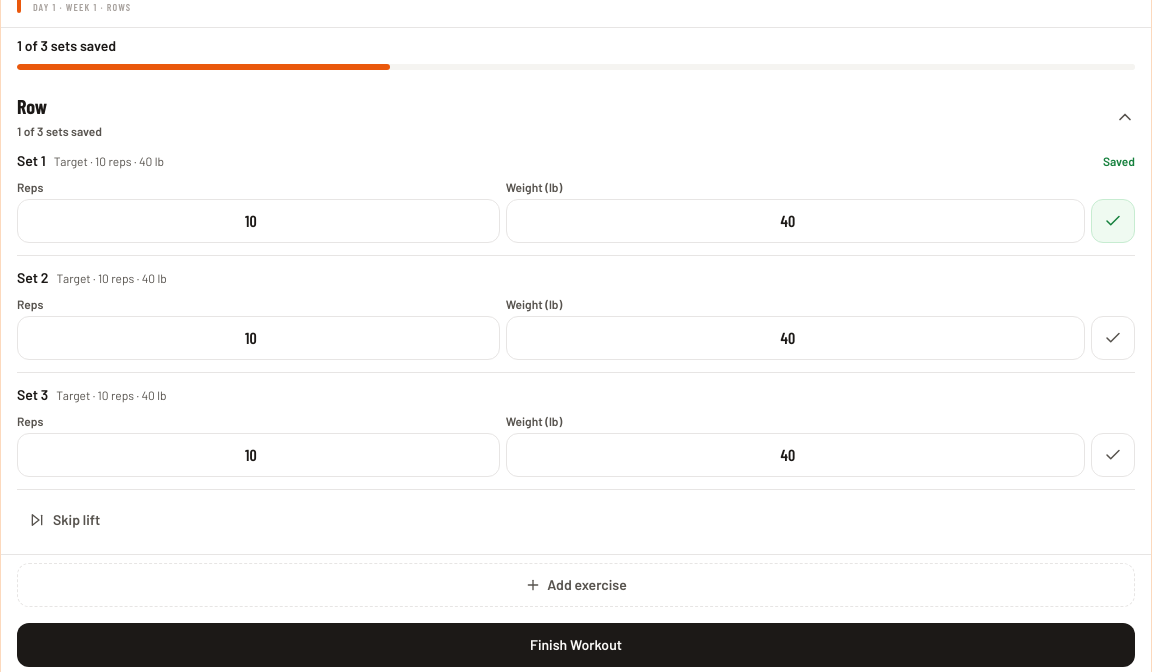
Scenario: planned finish with saved sets › Keep training preserves changed saved and unlogged inputs, and returns focus
This screenshot has width=1152, height=672.
Replace the text in the number field named "Row set 1 reps" with "7" at (258, 221), box left=17, top=199, right=500, bottom=243
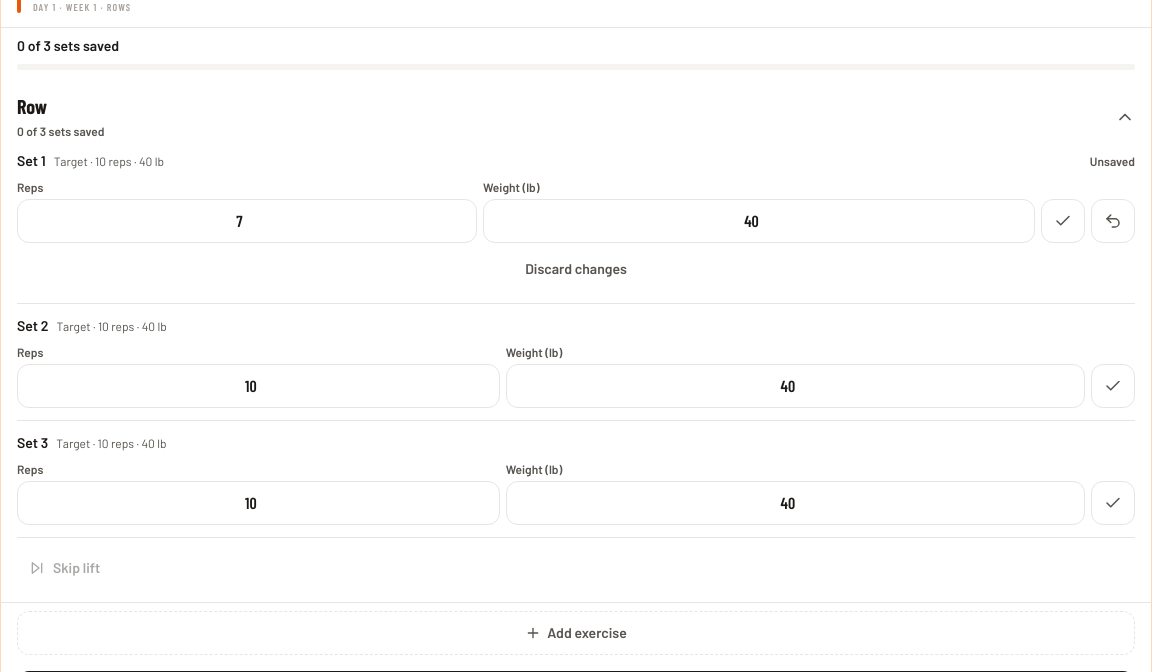
Replace the text in the 2nd number field labelled "Weight (lb)" with "42.5" at (795, 386), box left=506, top=364, right=1085, bottom=408
(page scrolled)
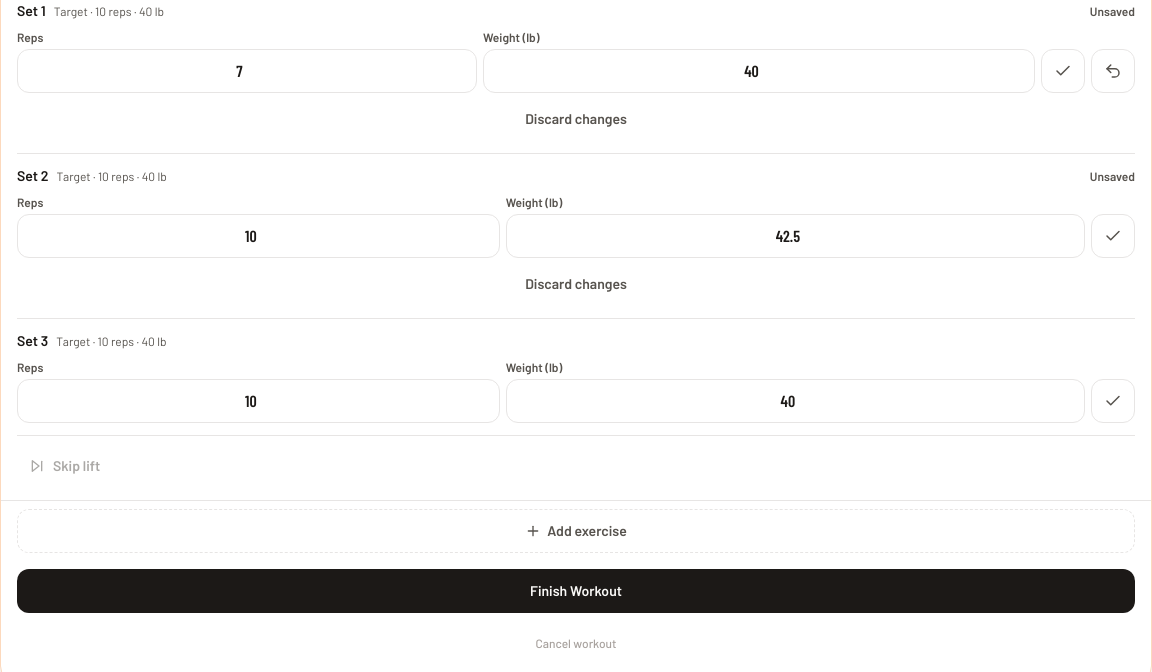
Click the button "Finish Workout" at (576, 591), box left=17, top=569, right=1135, bottom=613
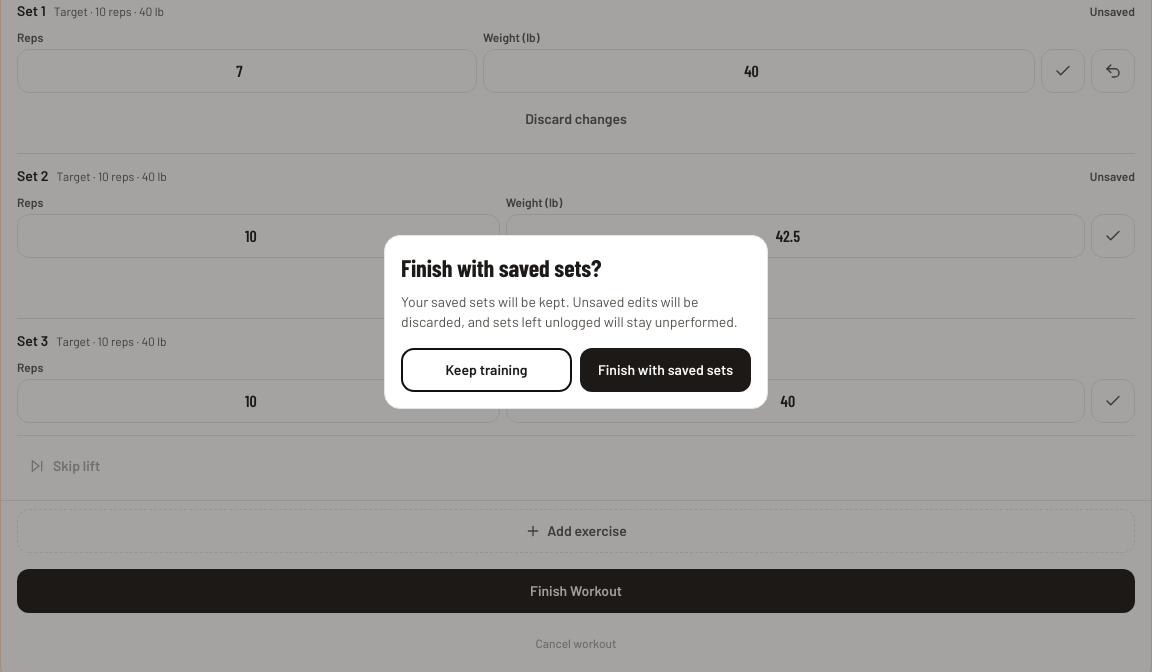
Click the button "Keep training" at (486, 370), box left=401, top=348, right=572, bottom=392
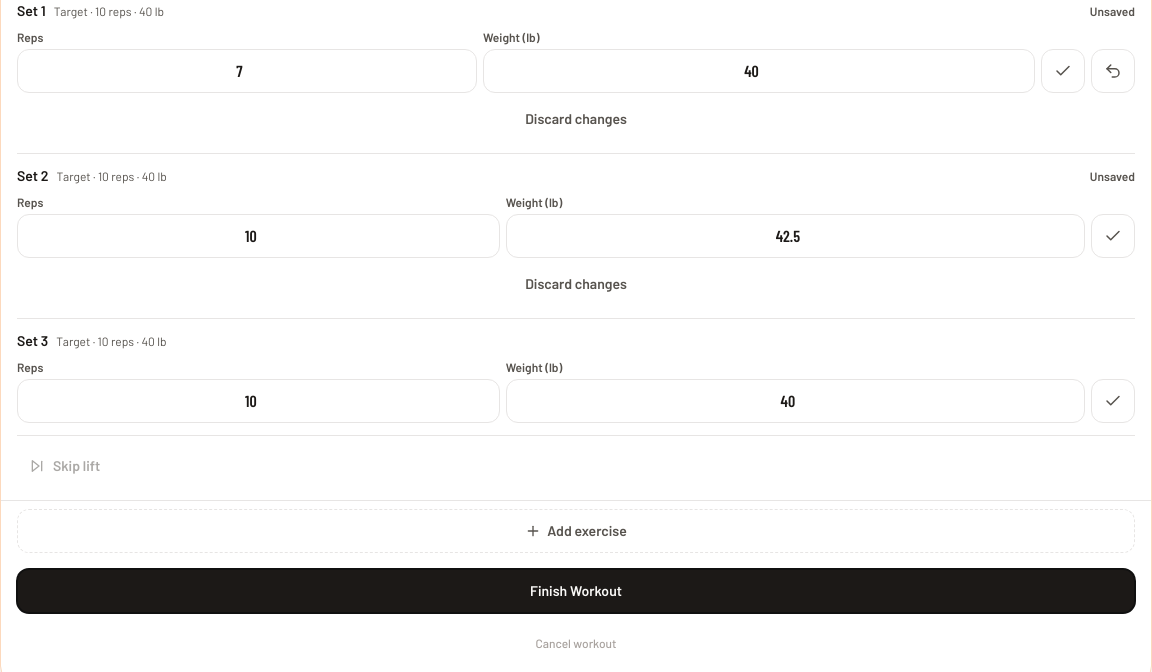
Check: the dialog is gone
